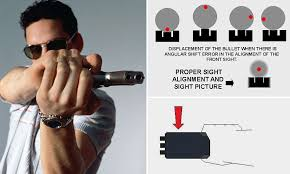Gun: (81, 61, 143, 93)
